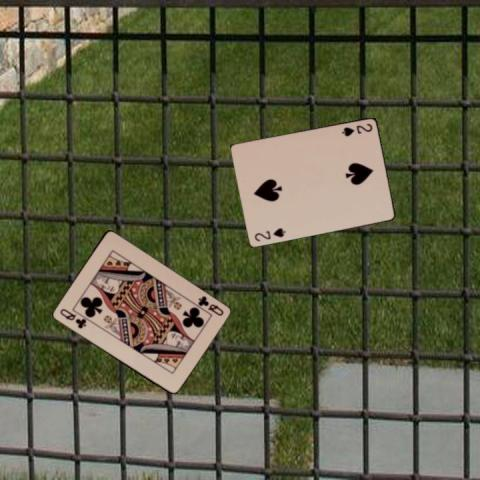2s: (251, 225, 287, 242), (339, 120, 374, 137)
Qc: (57, 305, 87, 330), (194, 293, 224, 317)
